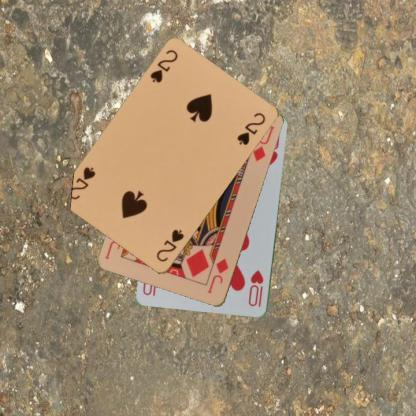10h: (245, 268, 266, 308)
2s: (154, 226, 186, 264), (147, 46, 179, 84)
Jd: (204, 256, 230, 296)
